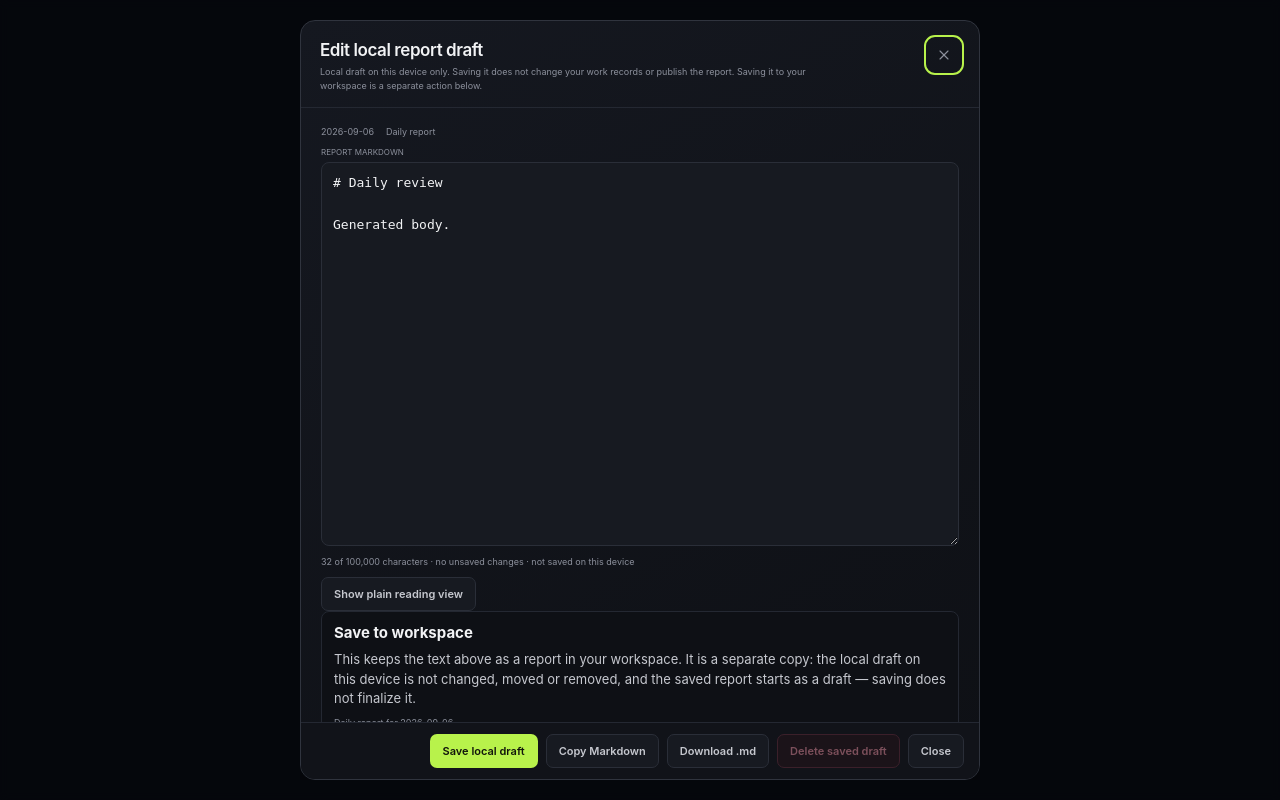
Test: save failures keep the text and name a fallback › capacity is explained and never erases the edit
Replace the text in the text box labelled "Report markdown" with "work I do not want to lose" at (640, 354), box [321, 162, 959, 546]
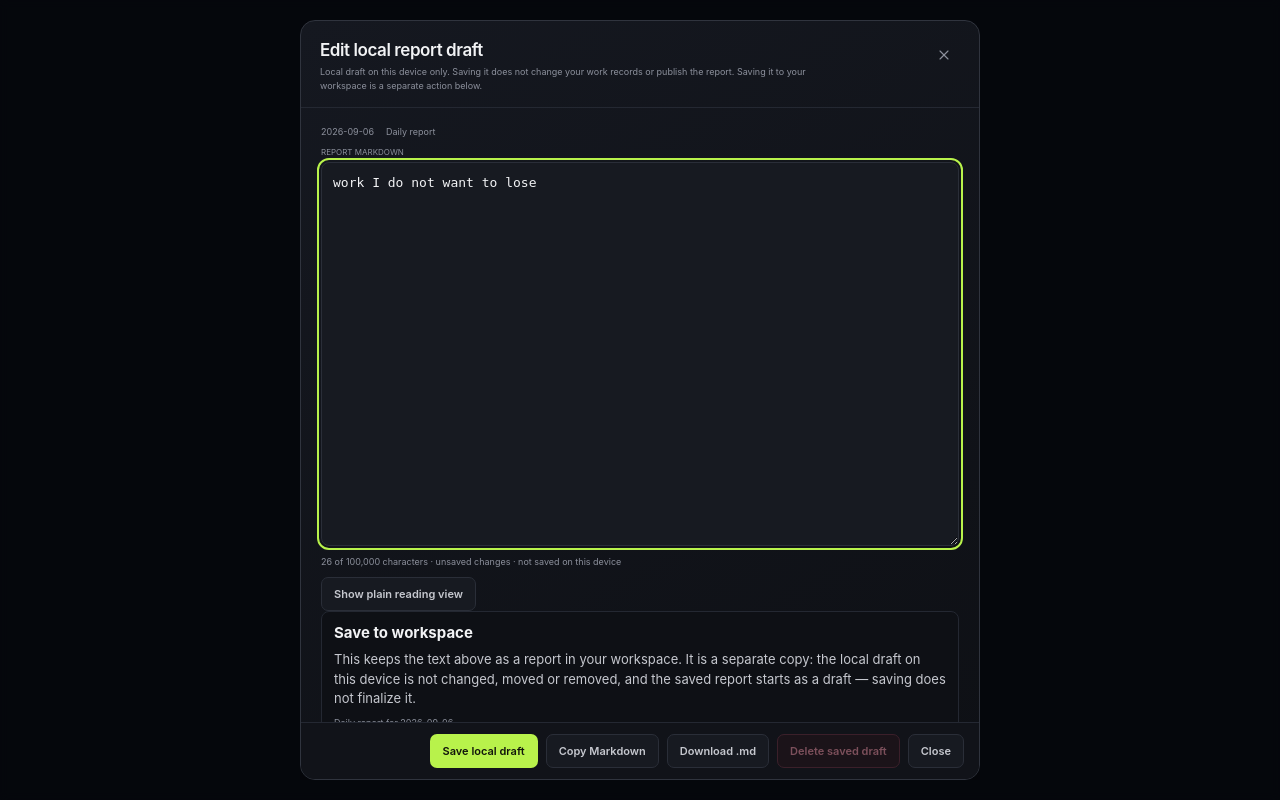
Click the button "Save local draft" at (484, 751), box [430, 734, 538, 768]
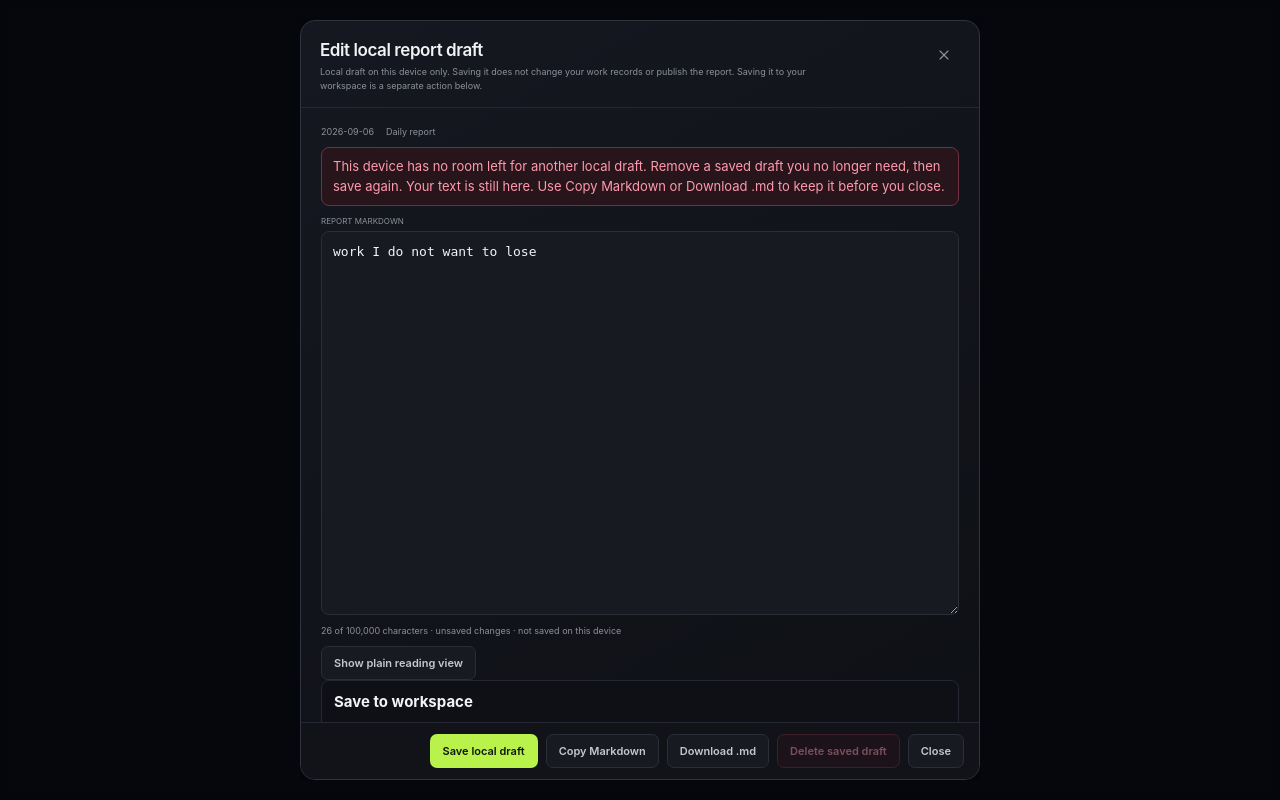
Expected: the button "Copy Markdown" is enabled, [546, 734, 659, 768]
Result: the message shows "no room left for another local draft" at [333, 158, 945, 194]
Result: the message shows "Copy Markdown or Download .md" at [333, 158, 945, 194]
